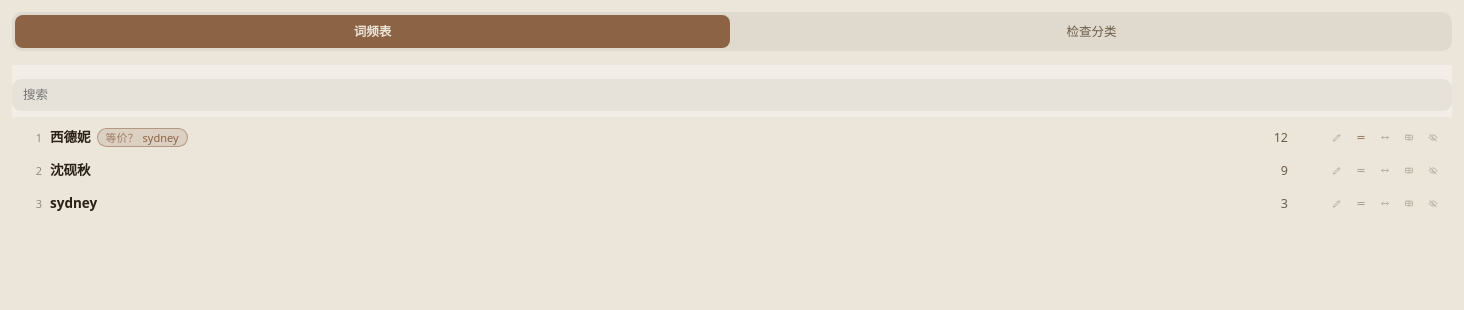
Scenario: WordsPanel equivalence mode › candidate order follows the score: co-occurrence beats a higher count
Click the button titled "等价：".
click(1361, 137)  # box 1350,126 -> 1372,148
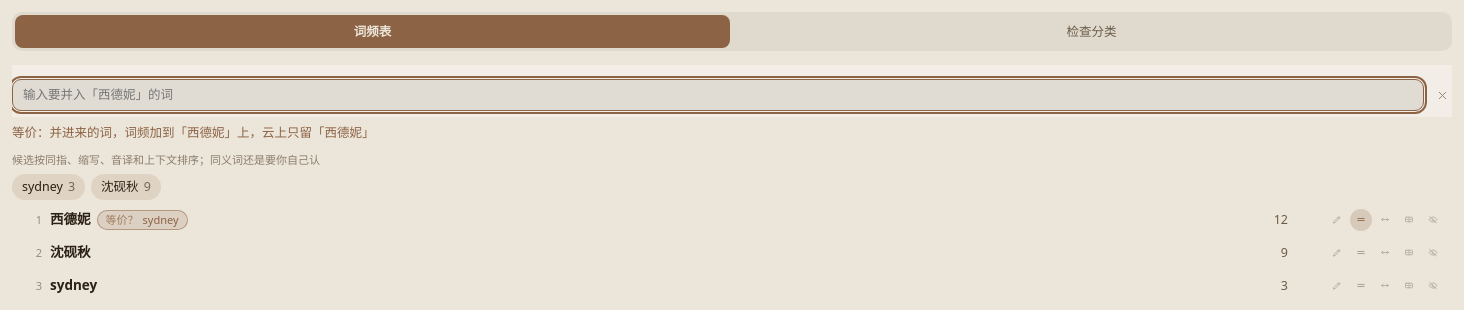
expect the button titled "把「sydney」并入「西德妮」" is shown: met, box 12,174 -> 85,200
expect the button titled "把「沈砚秋」并入「西德妮」" is shown: met, box 91,174 -> 161,200
